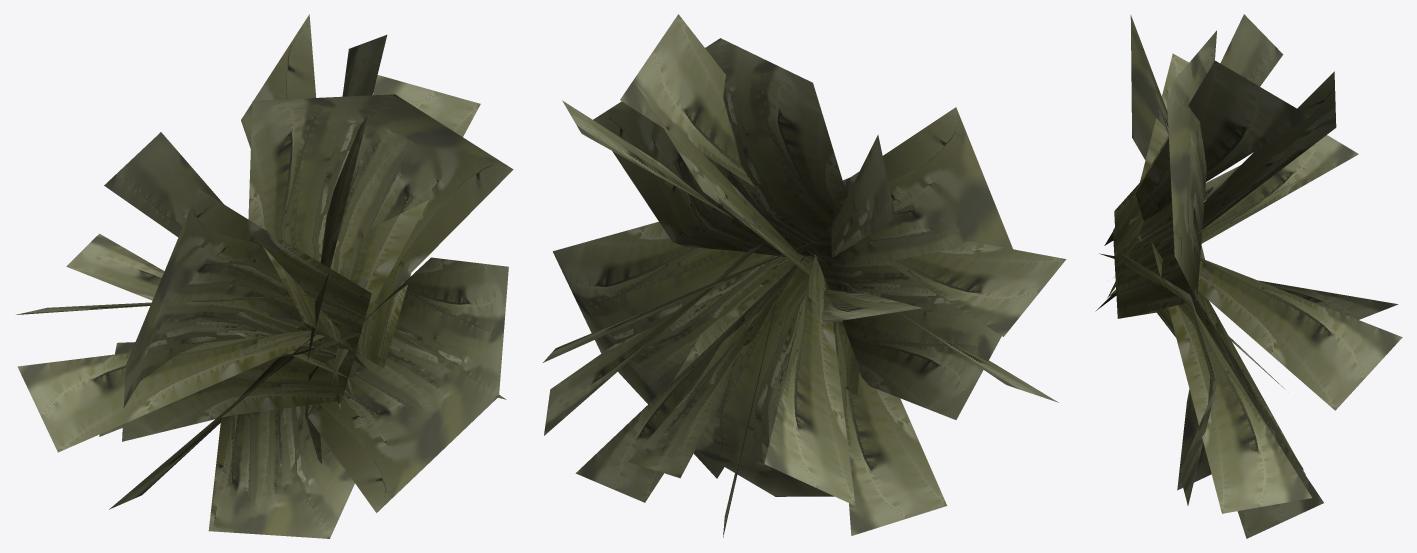
File: TI_GrassClump_1S_01.fbx
The picture shows the model from 3 angles, left to right: view 1: azimuth 30°, elevation 25°; view 2: azimuth 150°, elevation 25°; view 3: azimuth 270°, elevation 25°; orthographic projection. The views are drawn at different scales.
Visible parts, largest first — view 1: TI_GrassClump_1S_01; view 2: TI_GrassClump_1S_01; view 3: TI_GrassClump_1S_01.
Part boxes in pixels (left/top/right/bottom): TI_GrassClump_1S_01: left=16, top=14, right=513, bottom=538; TI_GrassClump_1S_01: left=543, top=14, right=1066, bottom=537; TI_GrassClump_1S_01: left=1095, top=14, right=1402, bottom=538.
Bounding box in the file's own units: 1.77 × 1.66 × 0.9817.
Materials: 1 (1 with a texture image).
